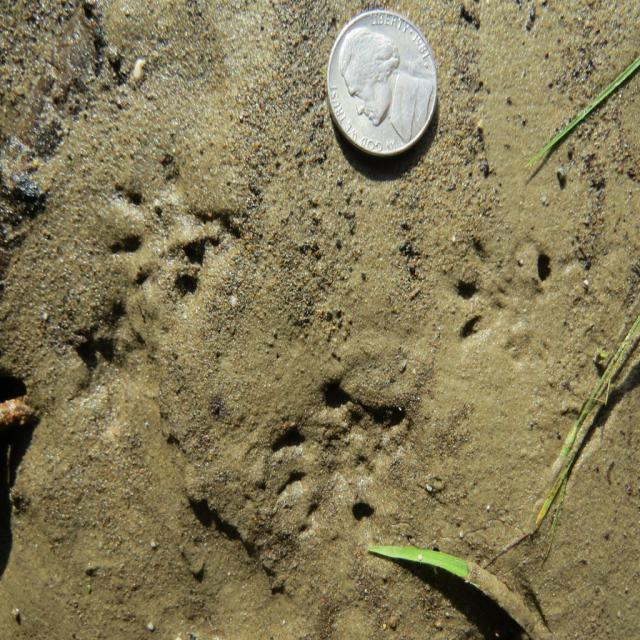mustelid: (265, 377, 412, 530), (114, 154, 239, 315), (458, 235, 554, 369)
